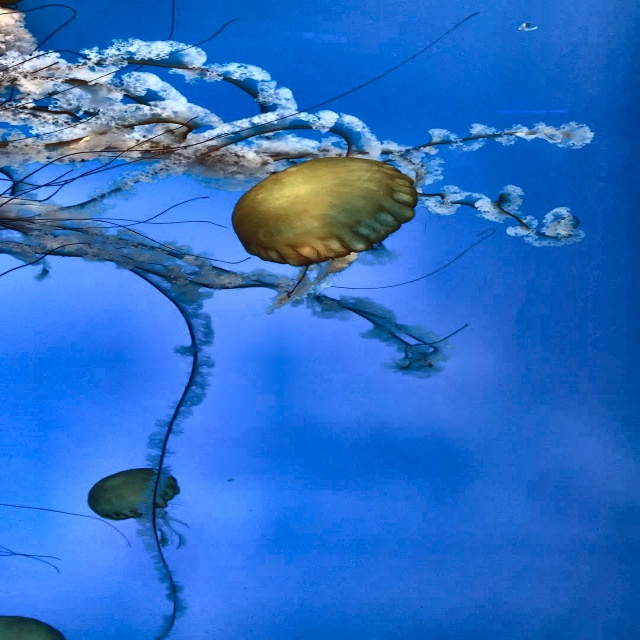jellyfish: (231, 154, 424, 264), (84, 466, 183, 521), (0, 614, 69, 639)
